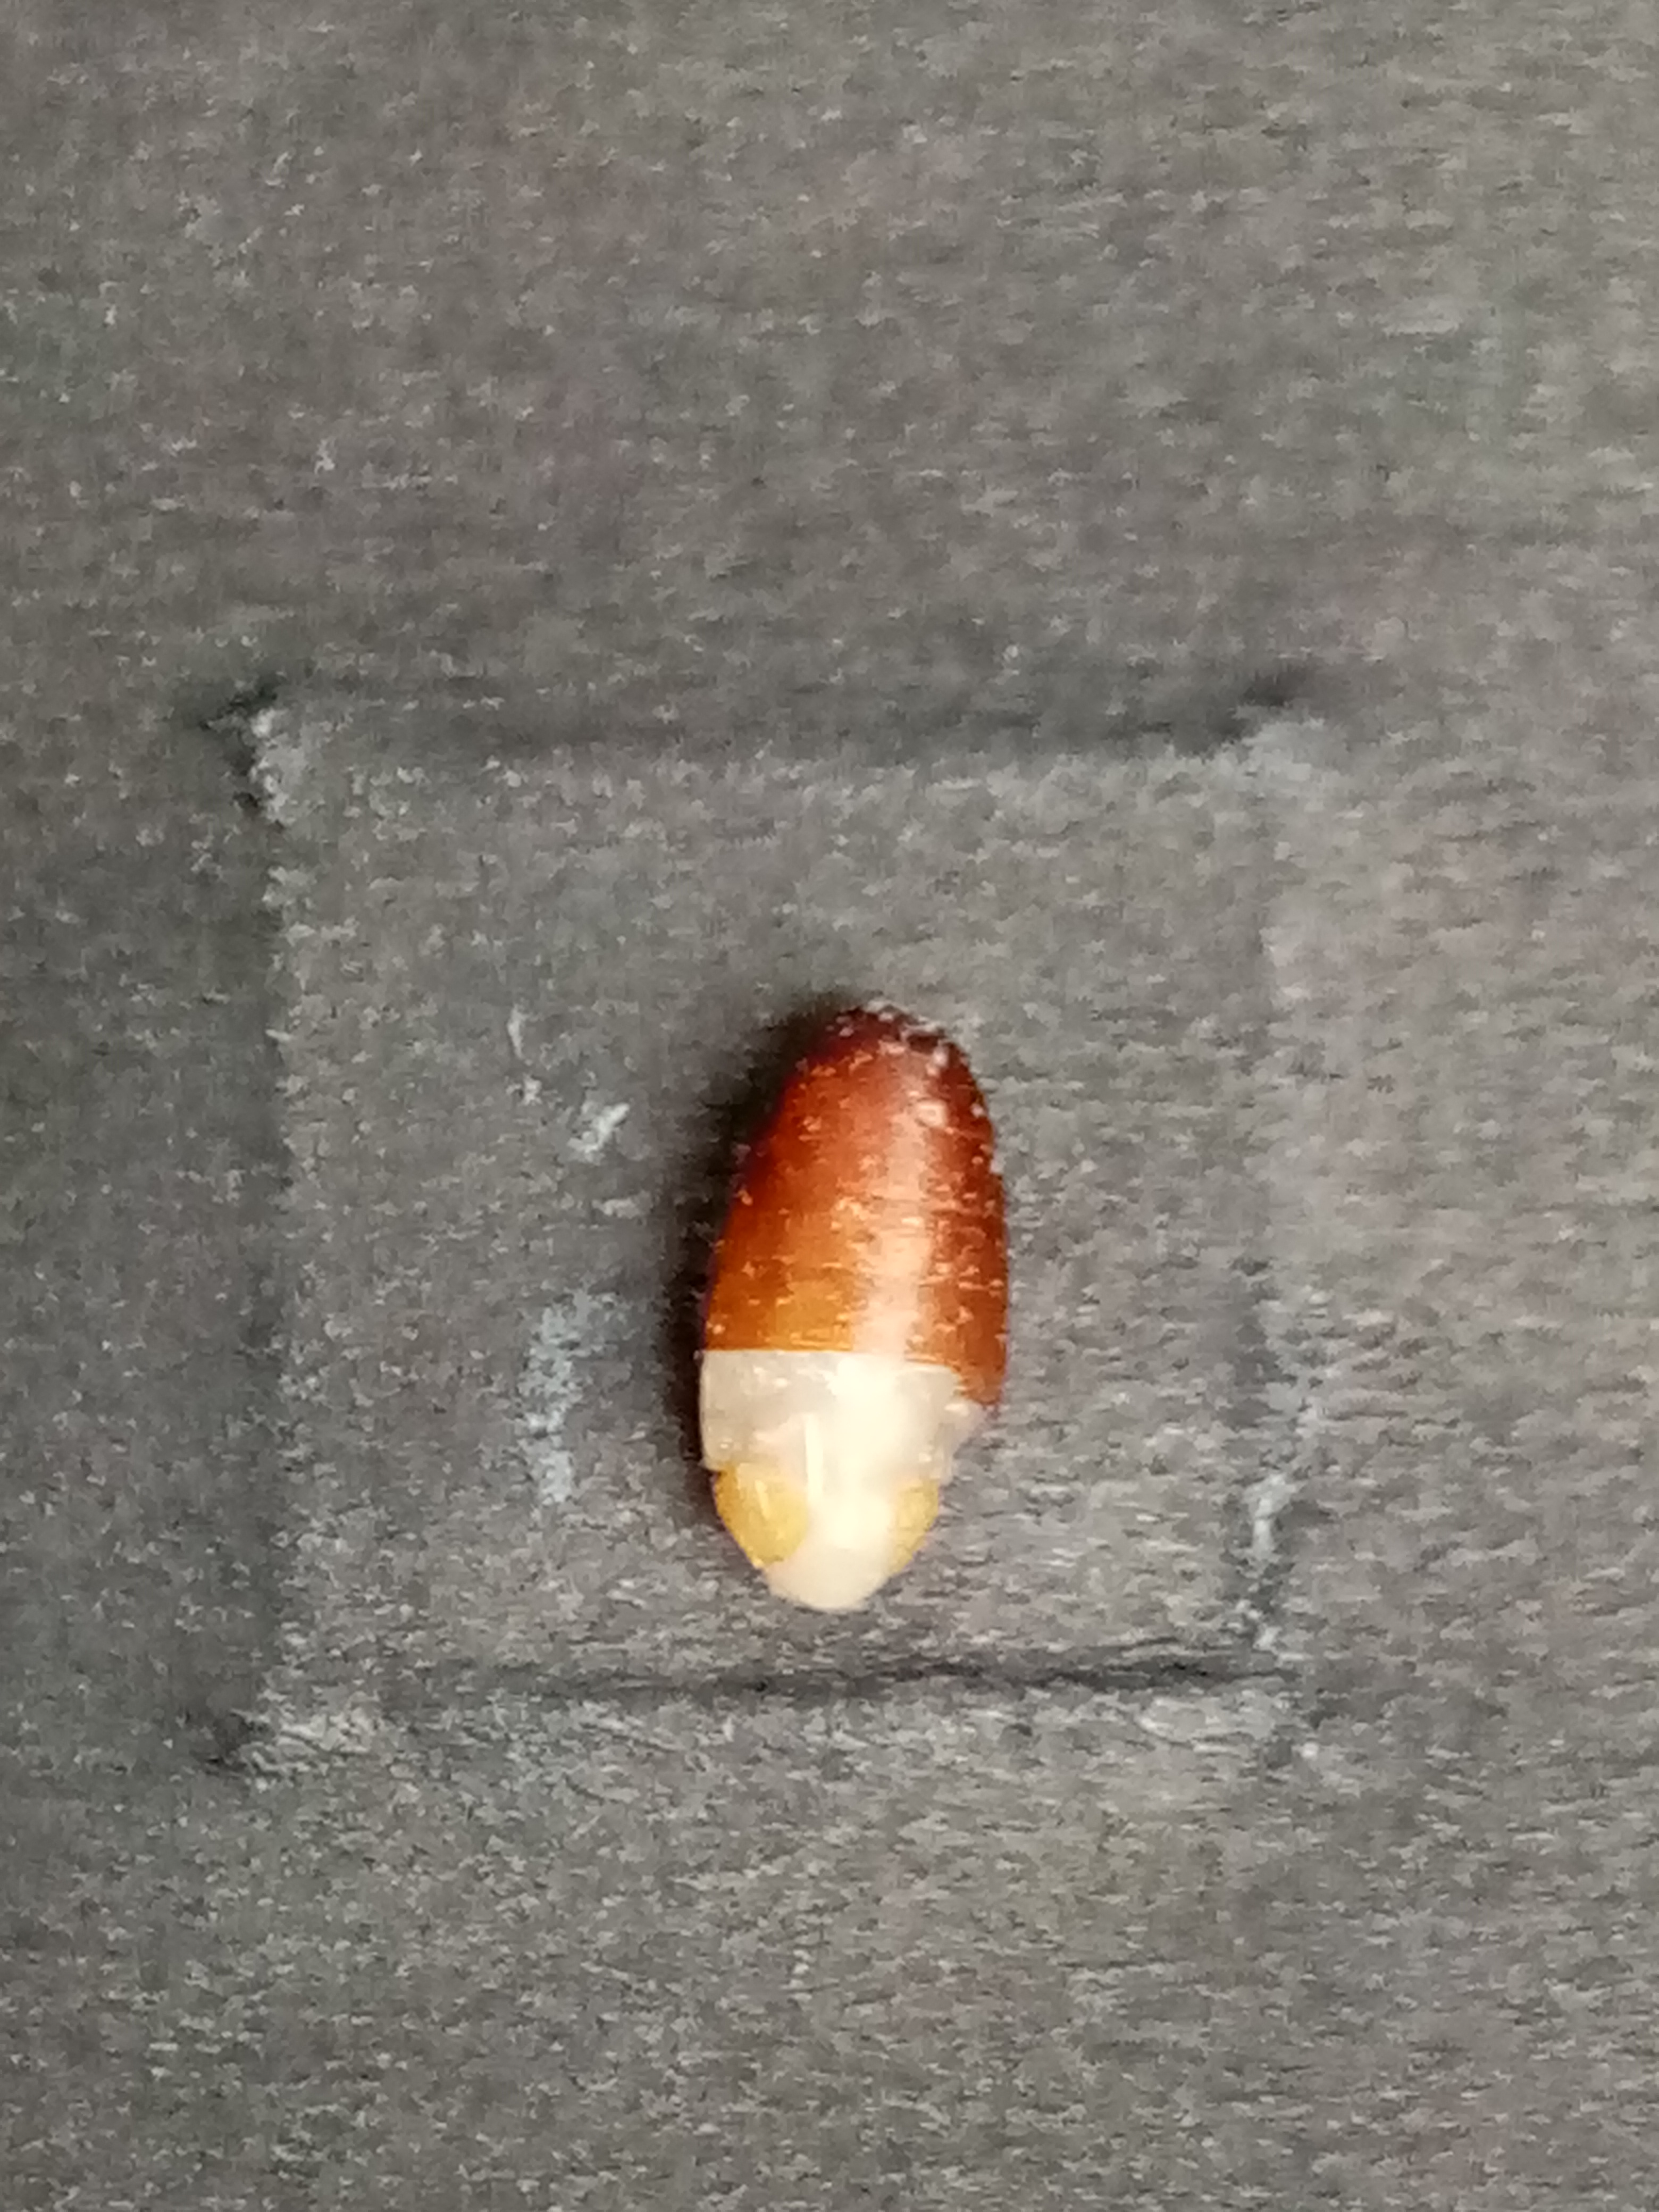pupa: (694, 1416, 962, 1623)
